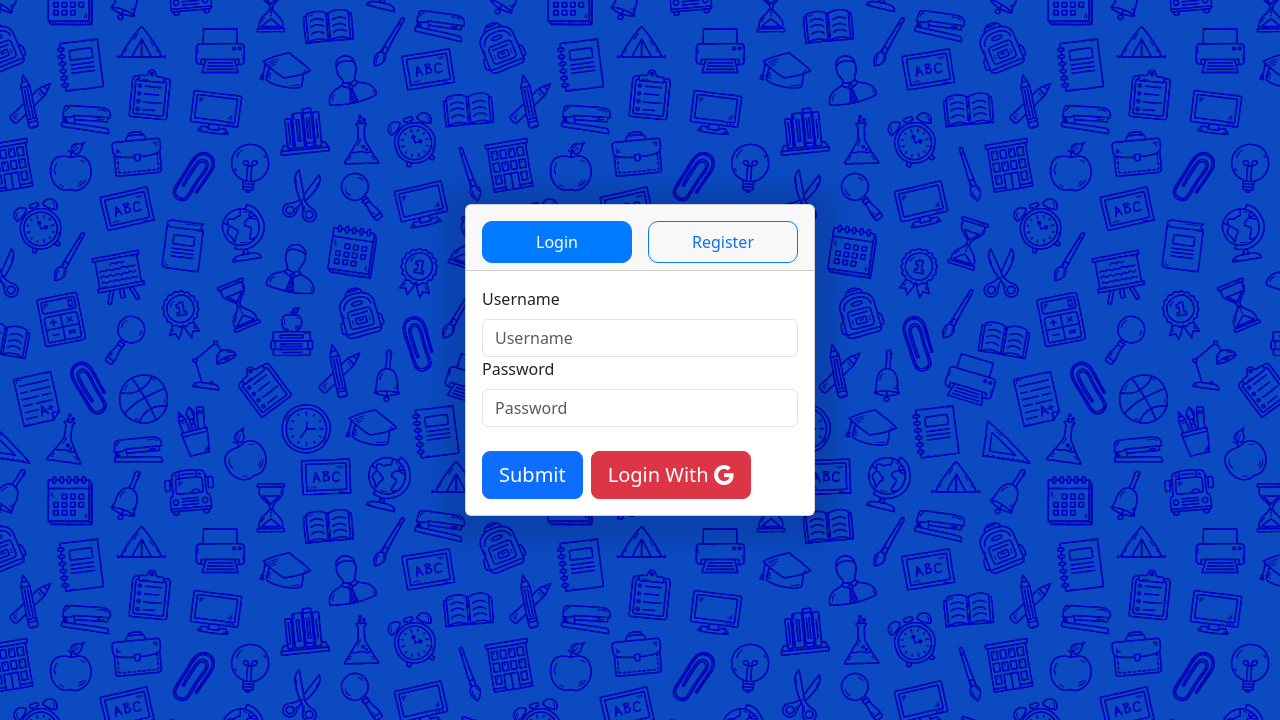
Test: login e2e tests › should not proceed further
This screenshot has width=1280, height=720.
Type "userAccount" into the field with placeholder "Username" at (640, 338), box [482,319,798,357]
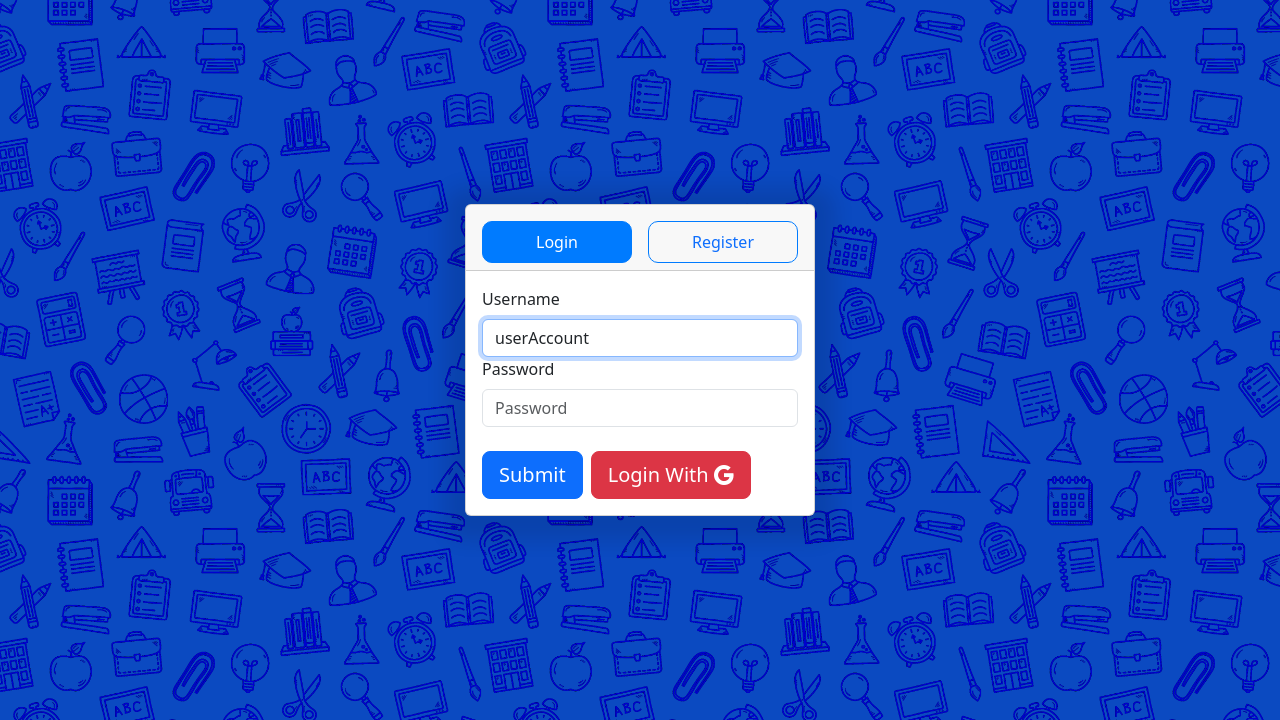
Type "wrongPassword!" into the password field with placeholder "Password" at (640, 408), box [482,389,798,427]
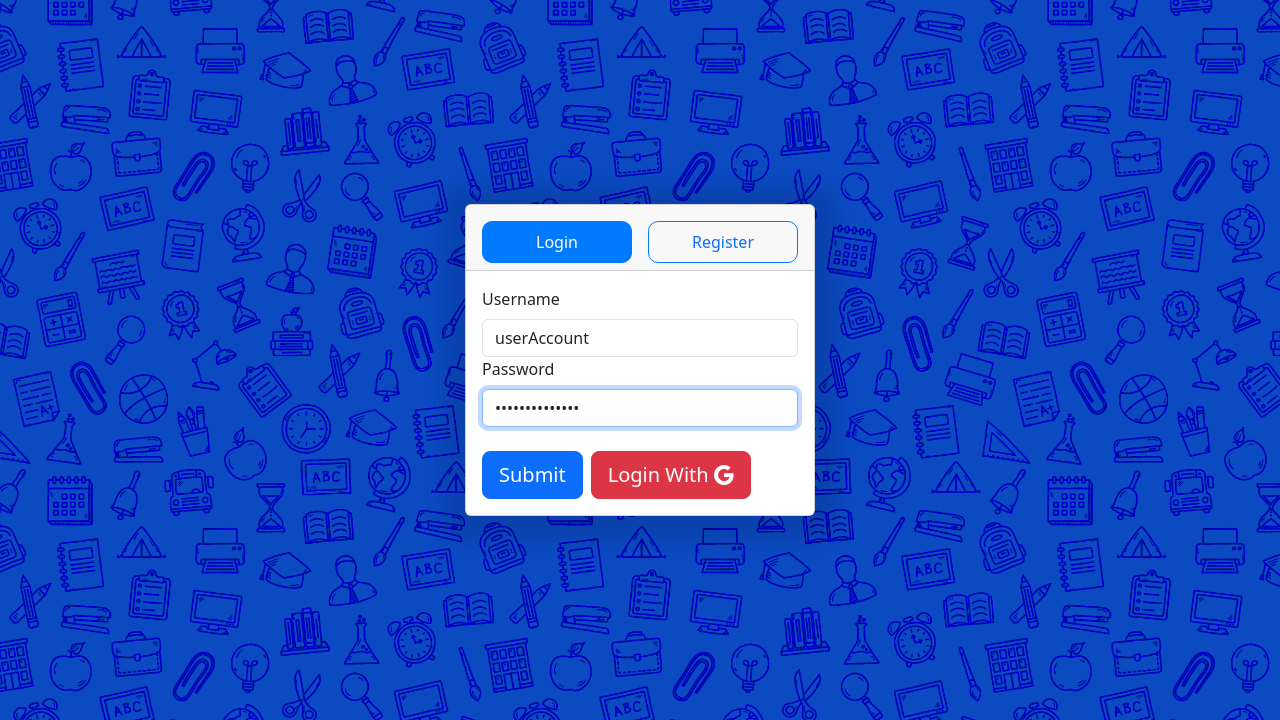
Click the submit button at (533, 475), box [482,451,583,499]
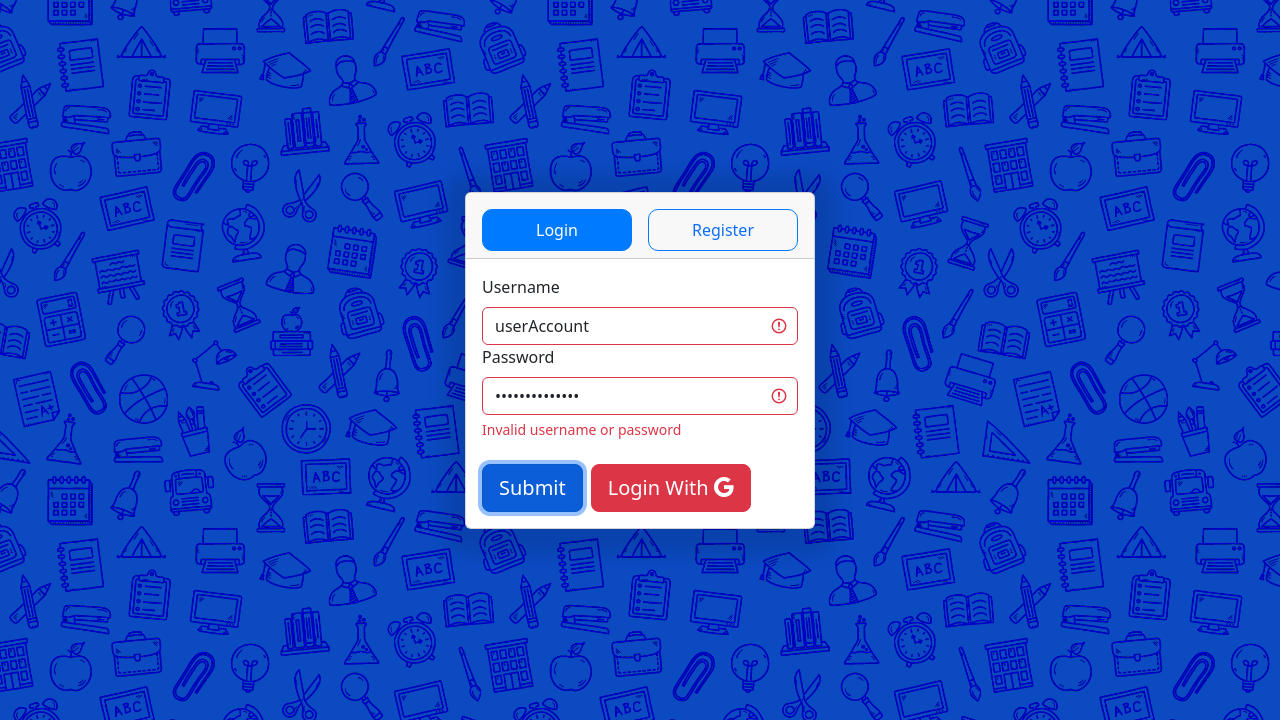
Check: the text "Invalid username or password" is shown, box [482,420,681,438]
